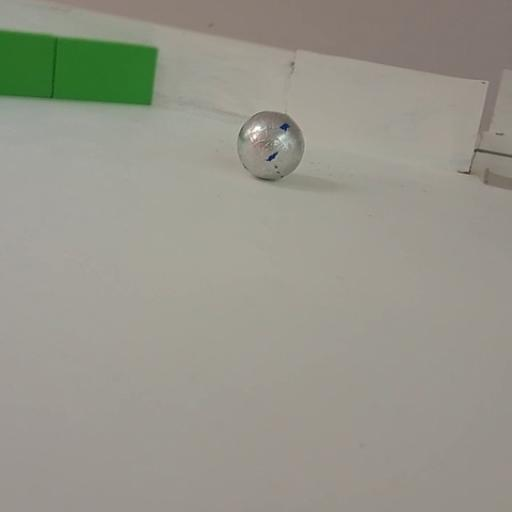alive: (236, 109, 305, 180)
